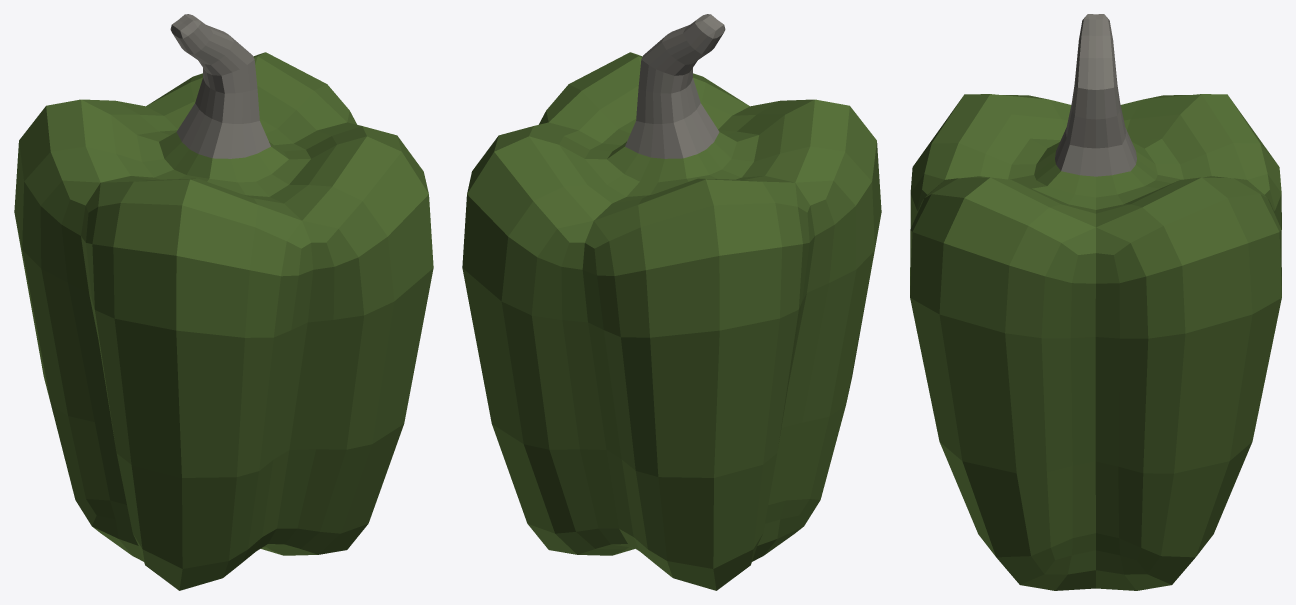
The model's file is cc0-pepper-lod0.glb.
3 renders of one model, left to right at view 1: azimuth 30°, elevation 25°; view 2: azimuth 150°, elevation 25°; view 3: azimuth 270°, elevation 25°, orthographic. The views are drawn at different scales.
Parts seen in each view (by area): view 1: part_0; view 2: part_0; view 3: part_0.
Boxes of the visible parts, box(x1,y1,x2,y2) form: part_0: box(14, 14, 433, 590); part_0: box(462, 14, 881, 590); part_0: box(910, 14, 1281, 590).
Bounding box in the file's own units: 0.674 × 1.12 × 0.7118.
